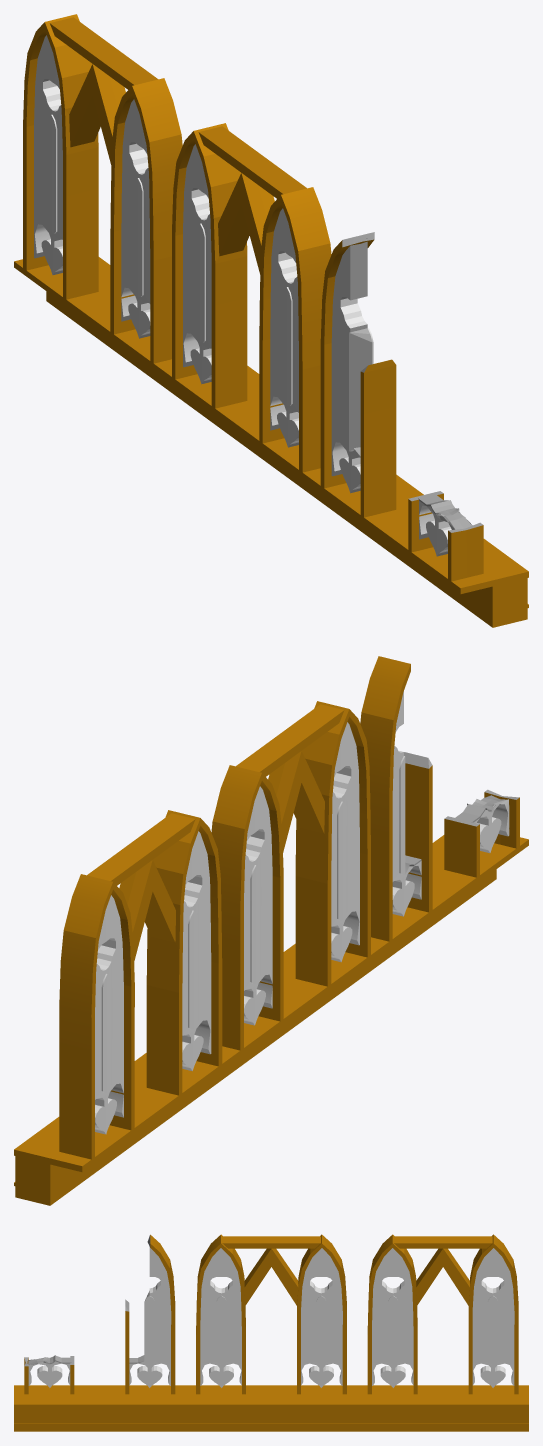
File: Mesh_Railing_Broken_a02.fbx
The picture shows the model from 3 angles, top to bottom: view 1: azimuth 30°, elevation 25°; view 2: azimuth 150°, elevation 25°; view 3: azimuth 270°, elevation 25°; orthographic projection. The views are drawn at different scales.
Parts seen in each view (by area): view 1: Mesh_Railing_Broken_b01; view 2: Mesh_Railing_Broken_b01; view 3: Mesh_Railing_Broken_b01.
Part boxes in pixels (x1,y1,x2,y2): Mesh_Railing_Broken_b01: (14, 14, 528, 627); Mesh_Railing_Broken_b01: (14, 656, 528, 1205); Mesh_Railing_Broken_b01: (14, 1234, 528, 1431).
Size of the model in its own units: 2.12 by 9.18 by 24.
